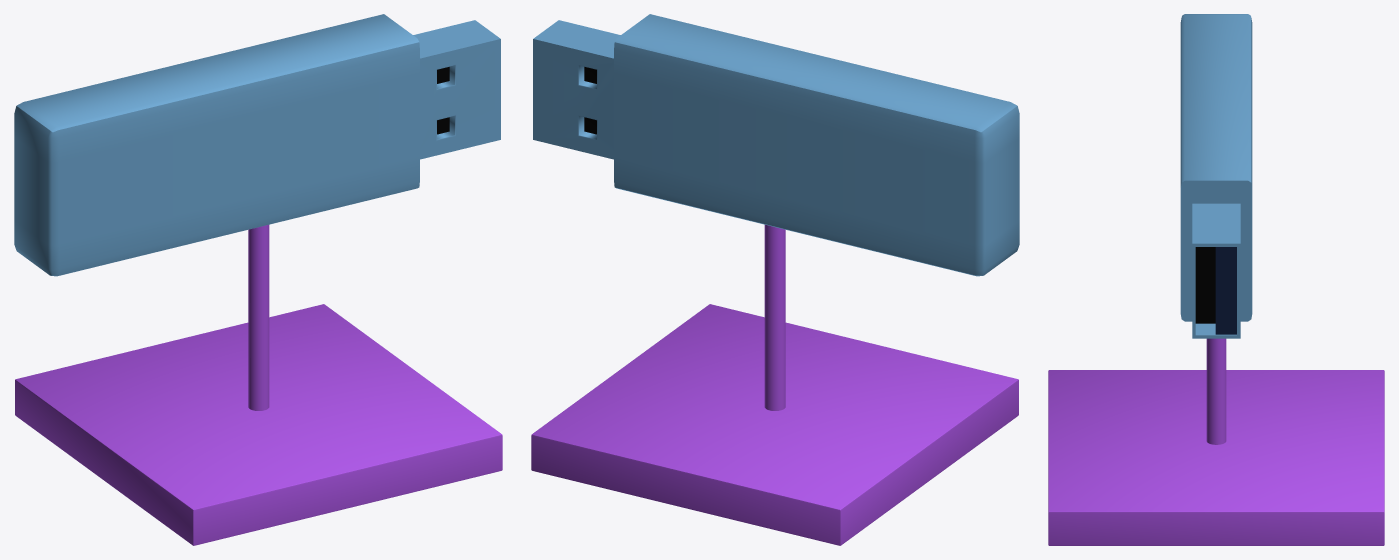
File: USB_low.fbx
The picture shows the model from 3 angles, left to right: view 1: azimuth 30°, elevation 25°; view 2: azimuth 150°, elevation 25°; view 3: azimuth 270°, elevation 25°; orthographic projection. The views are drawn at different scales.
Parts seen in each view (by area): view 1: Object039; view 2: Object039; view 3: Object039.
Boxes of the visible parts, x1,y1,x2,y2 form: Object039: (14,14,502,545); Object039: (531,14,1019,545); Object039: (1048,14,1384,545).
Size of the model in its own units: 82.94 by 66.35 by 56.2.
